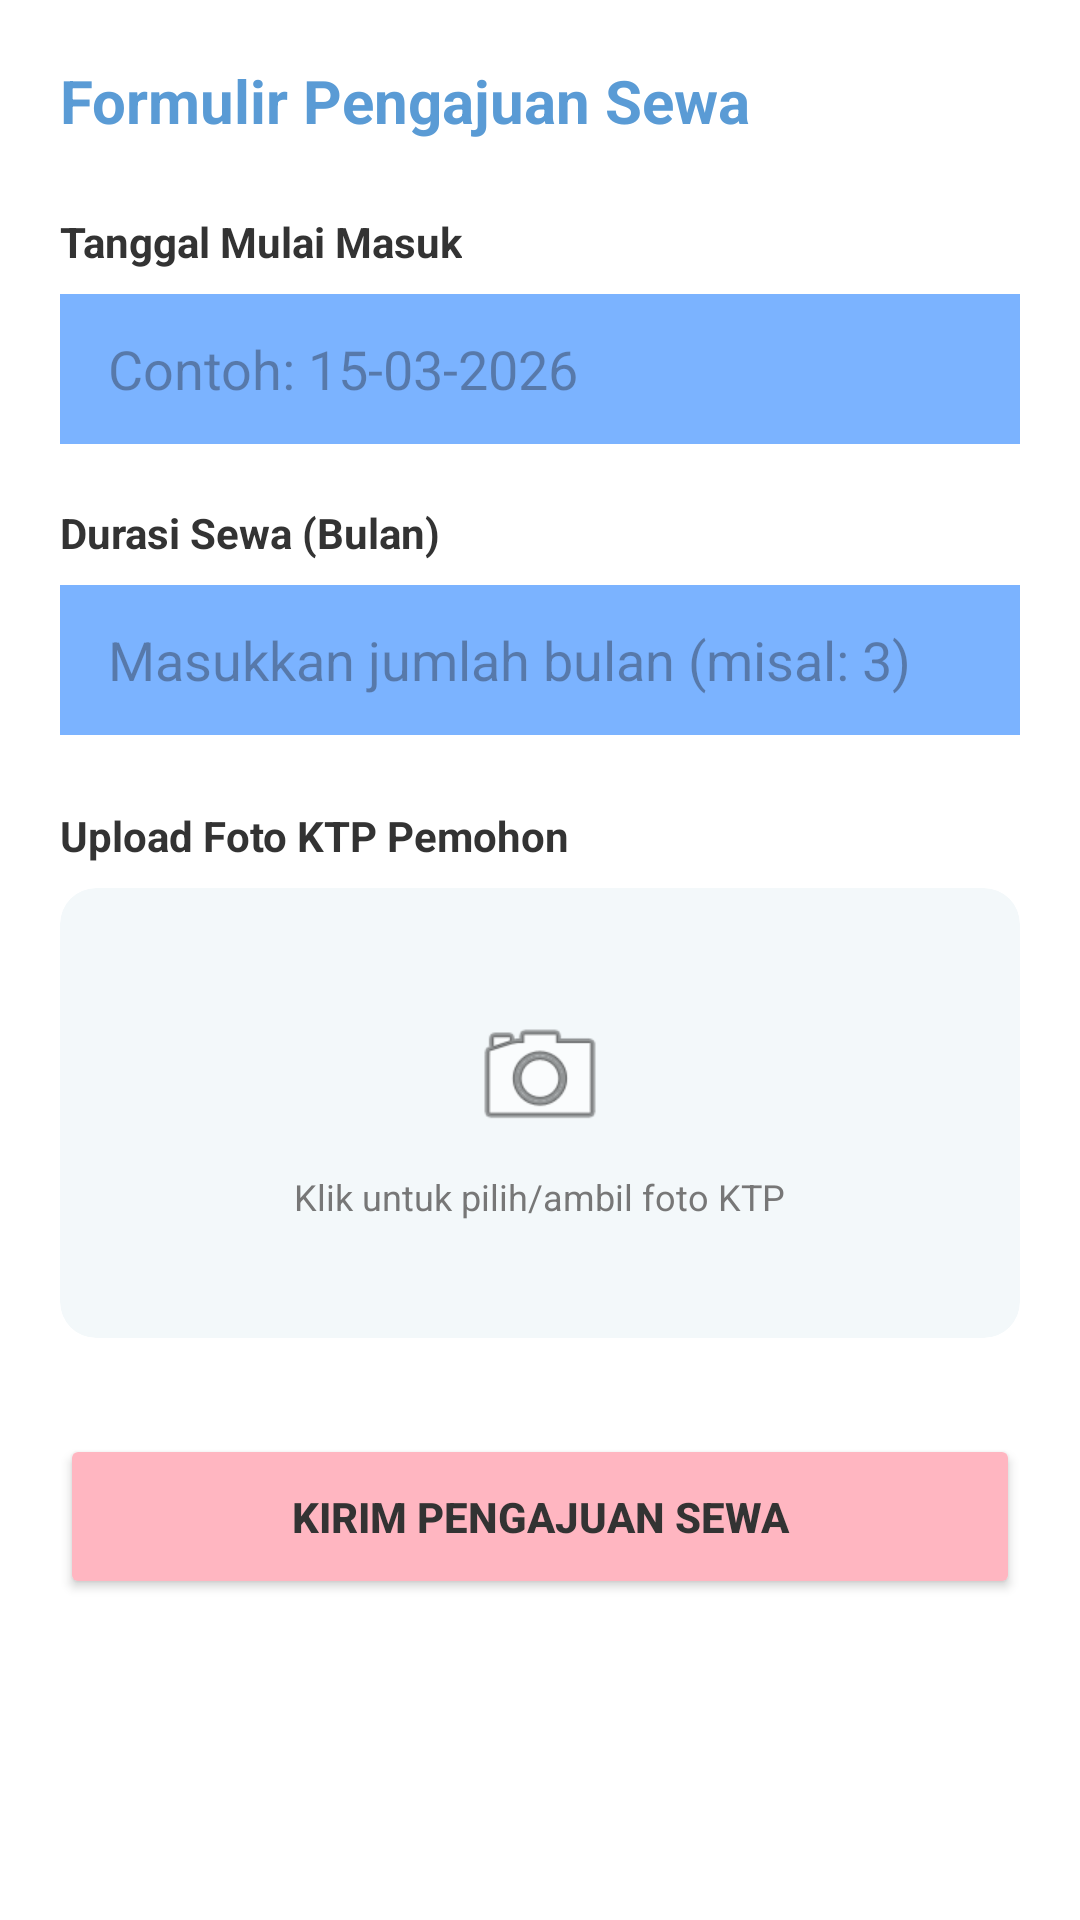

Icon bounding boxes for this 1080w x 1920h phone screenshot, format box(x1, y1, x2, y2):
camera: box(484, 1029, 596, 1118)
